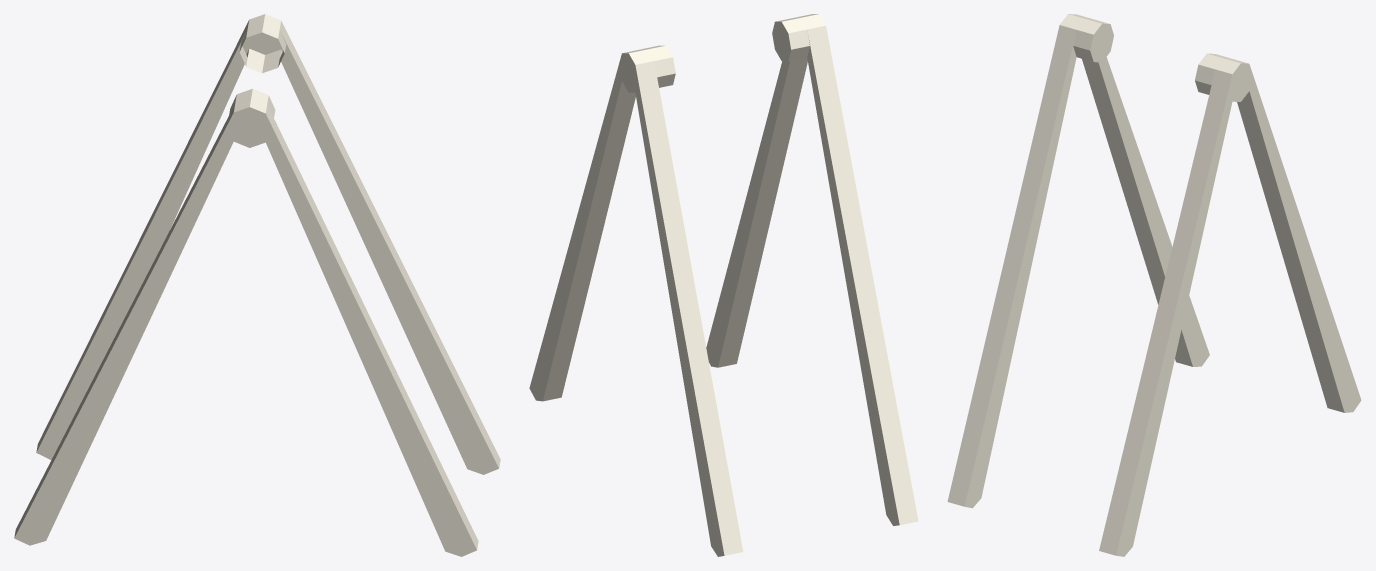
The model's file is FerrisWheelBase.gltf.
3 renders of one model, left to right at view 1: azimuth 30°, elevation 25°; view 2: azimuth 150°, elevation 25°; view 3: azimuth 270°, elevation 25°, orthographic. The views are drawn at different scales.
Visible parts, largest first — view 1: ferriswheel; view 2: ferriswheel; view 3: ferriswheel.
Boxes of the visible parts, x1,y1,x2,y2 form: ferriswheel: (14, 14, 500, 556); ferriswheel: (529, 14, 918, 556); ferriswheel: (947, 14, 1361, 556).
Size of the model in its own units: 8.98 by 8.57 by 7.64.
Materials: 1 (1 with a texture image).
